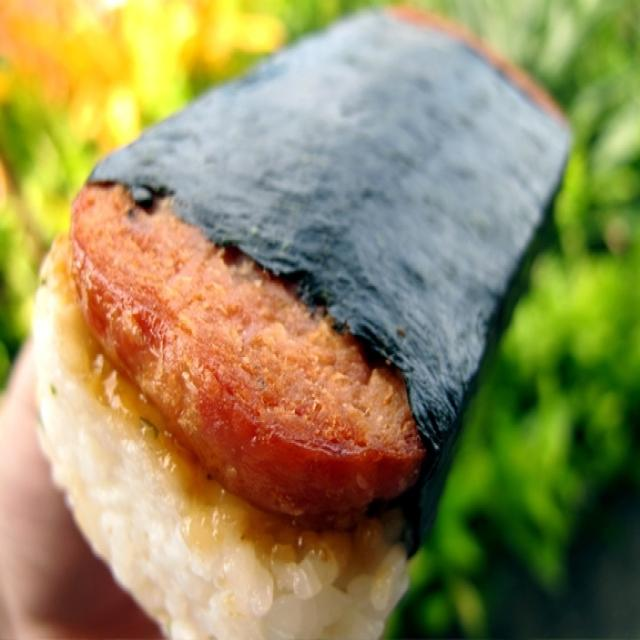寿司卷物: (21, 10, 596, 624)
